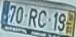0: (14, 5, 23, 24)
1: (52, 11, 58, 31)
7: (9, 4, 16, 22)
9: (57, 12, 66, 31)
C: (37, 9, 47, 29)
R: (26, 7, 38, 28)
